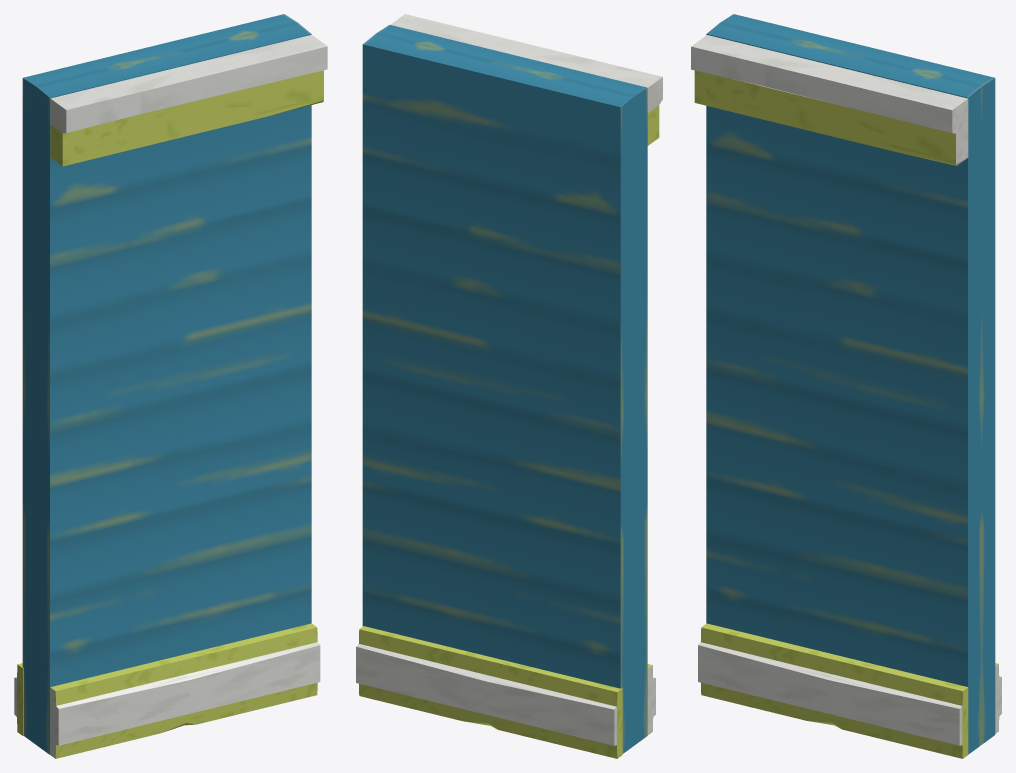
The model's file is Wall_Half_01.fbx.
The picture shows the model from 3 angles, left to right: view 1: azimuth 30°, elevation 25°; view 2: azimuth 150°, elevation 25°; view 3: azimuth 330°, elevation 25°; orthographic projection.
Parts seen in each view (by area): view 1: SM_Bld_Base_Wall_Half_02; view 2: SM_Bld_Base_Wall_Half_02; view 3: SM_Bld_Base_Wall_Half_02.
Boxes of the visible parts, x1=… form: SM_Bld_Base_Wall_Half_02: x1=14, y1=14, x2=327, y2=758; SM_Bld_Base_Wall_Half_02: x1=356, y1=14, x2=662, y2=758; SM_Bld_Base_Wall_Half_02: x1=691, y1=14, x2=1001, y2=758.
Size of the model in its own units: 126 by 301 by 41.92.
